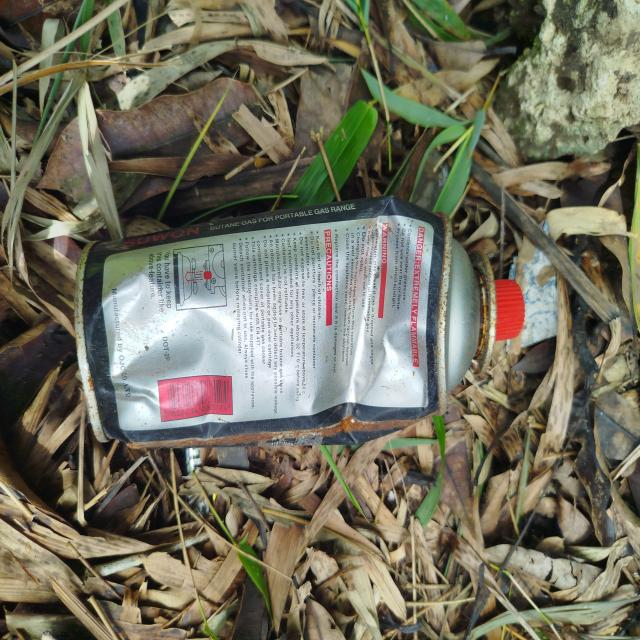metal: (65, 190, 523, 460)
